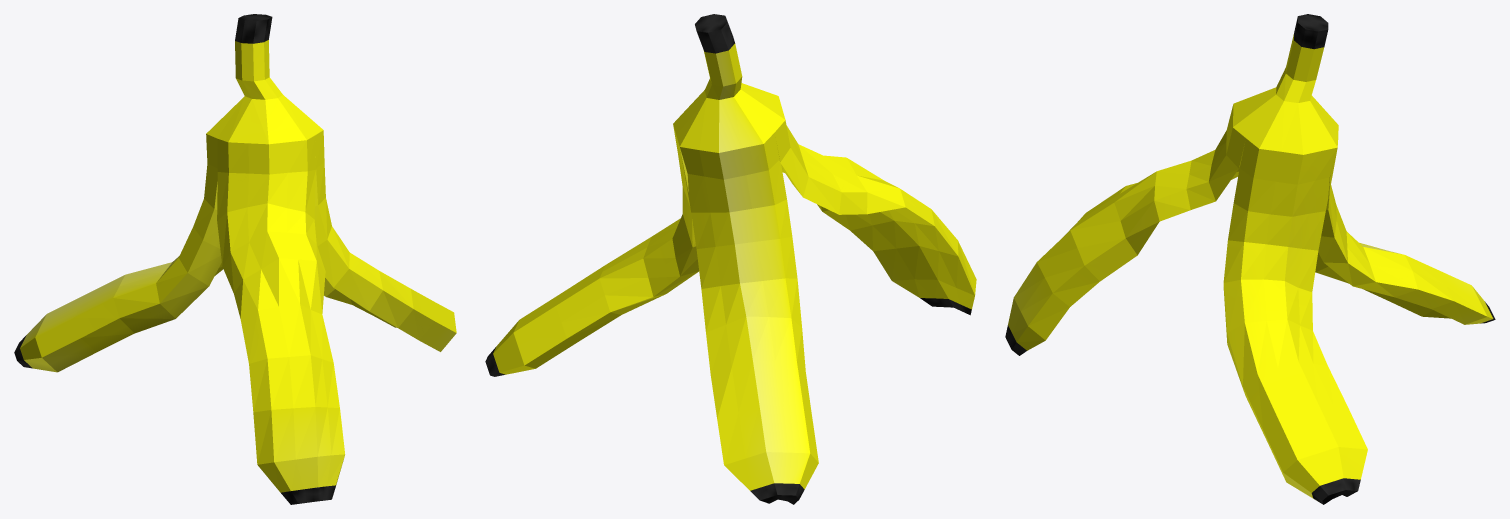
Rendered from BANANA HAT.fbx.
3 renders of one model, left to right at view 1: azimuth 30°, elevation 25°; view 2: azimuth 150°, elevation 25°; view 3: azimuth 270°, elevation 25°, orthographic. The views are drawn at different scales.
Parts seen in each view (by area): view 1: BANANA_HAT; view 2: BANANA_HAT; view 3: BANANA_HAT.
Boxes of the visible parts, <box> form: BANANA_HAT: <box>14,14,456,504</box>; BANANA_HAT: <box>485,14,976,504</box>; BANANA_HAT: <box>1005,14,1495,504</box>.
Size of the model in its own units: 25.05 by 24.75 by 28.41.
